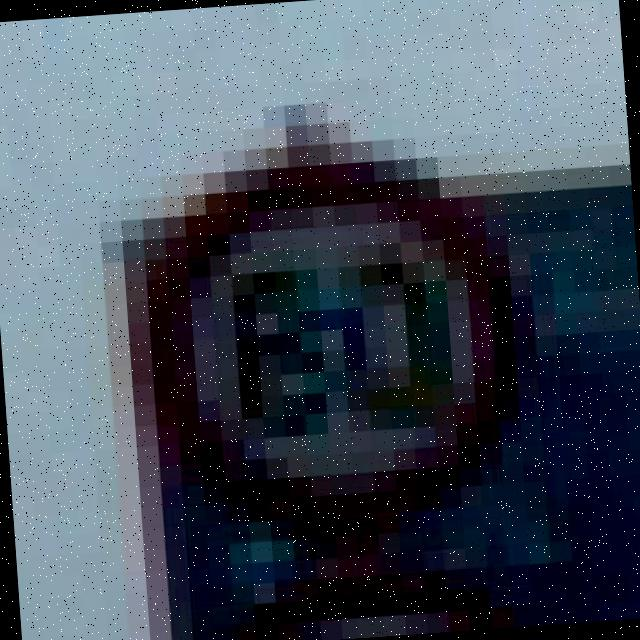Ograniczenie predkosci do 80: (155, 162, 521, 532)
